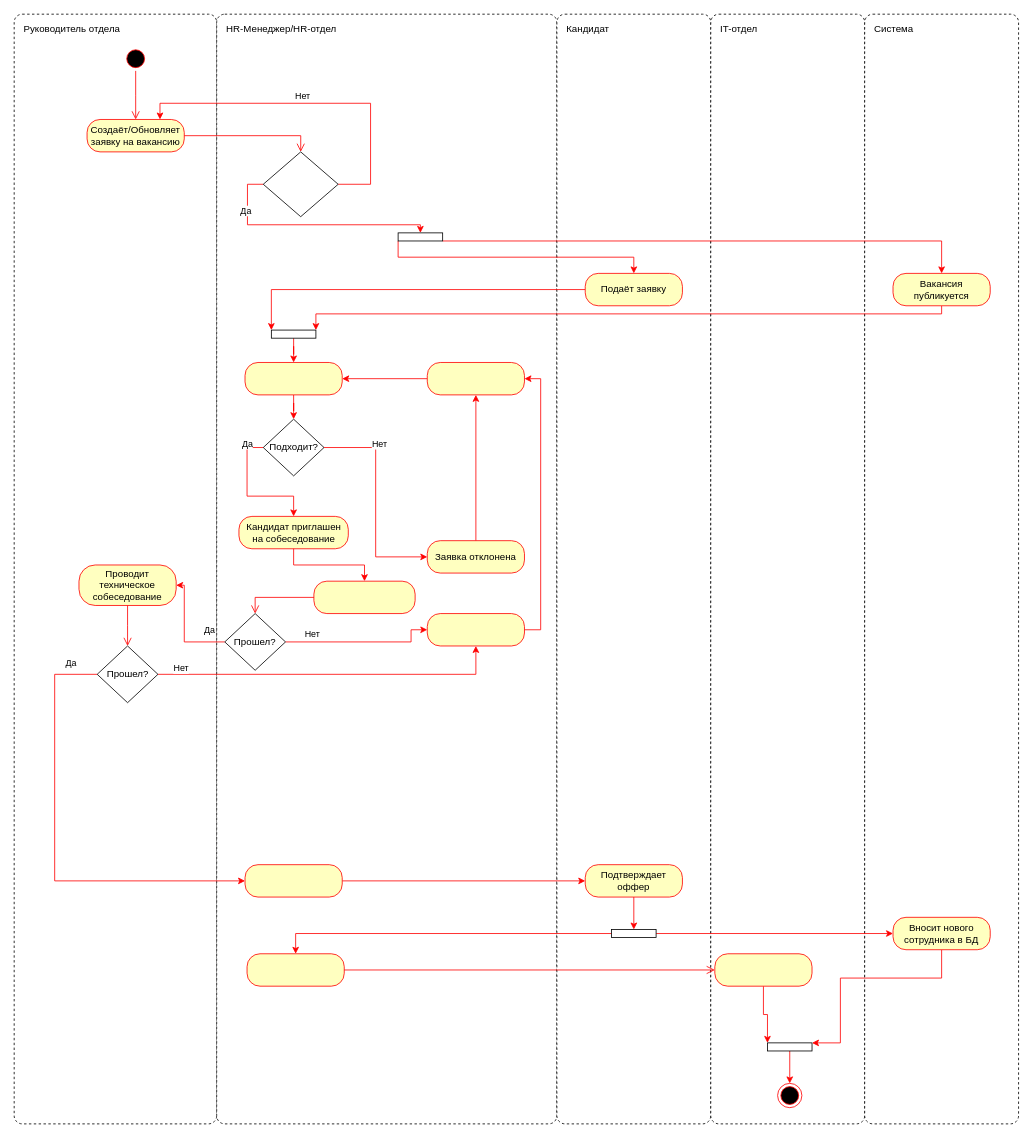
The diagram is 1033 pixels wide and 1138 high, and some of its shapes have lost their labels. The centre of each missing label's shape, as x and y in pixels:
"Заявка соответствует?" goes at point (300, 184).
"Настраивает рабочее место" goes at point (763, 969).
"Отослать уведомление об отказе" goes at point (475, 629).
"Отсылает оффер кандидату" goes at point (293, 880).
"Получить новую заявку" goes at point (475, 378).
"Проверка заявки" goes at point (293, 378).
"Проводит первичное интервью" goes at point (364, 597).
"Уведомляет IT-отдел" goes at point (295, 969).
